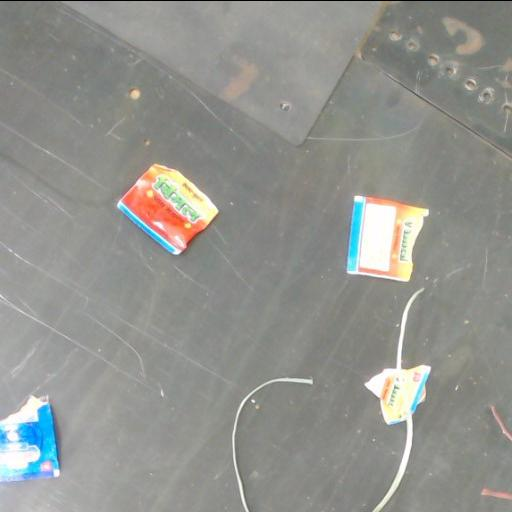conveyor belt: (0, 1, 511, 512)
packet: (117, 164, 218, 254), (347, 196, 428, 280), (0, 396, 59, 481), (365, 365, 431, 424)
thread: (232, 377, 312, 512), (371, 401, 414, 512), (395, 289, 423, 368), (491, 407, 511, 440), (481, 488, 511, 499)
